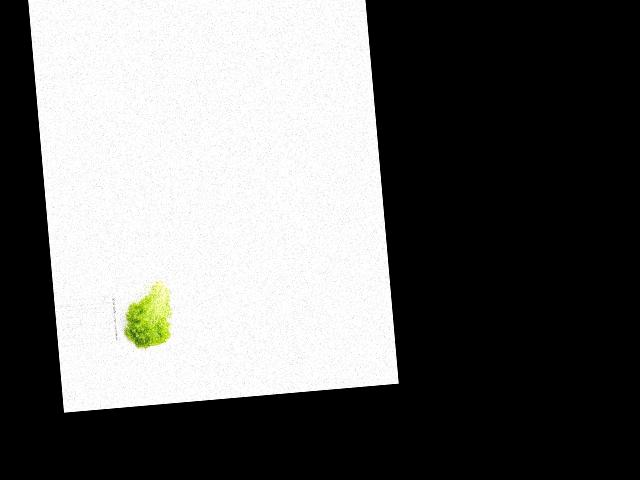lettuce: (120, 279, 177, 353)
